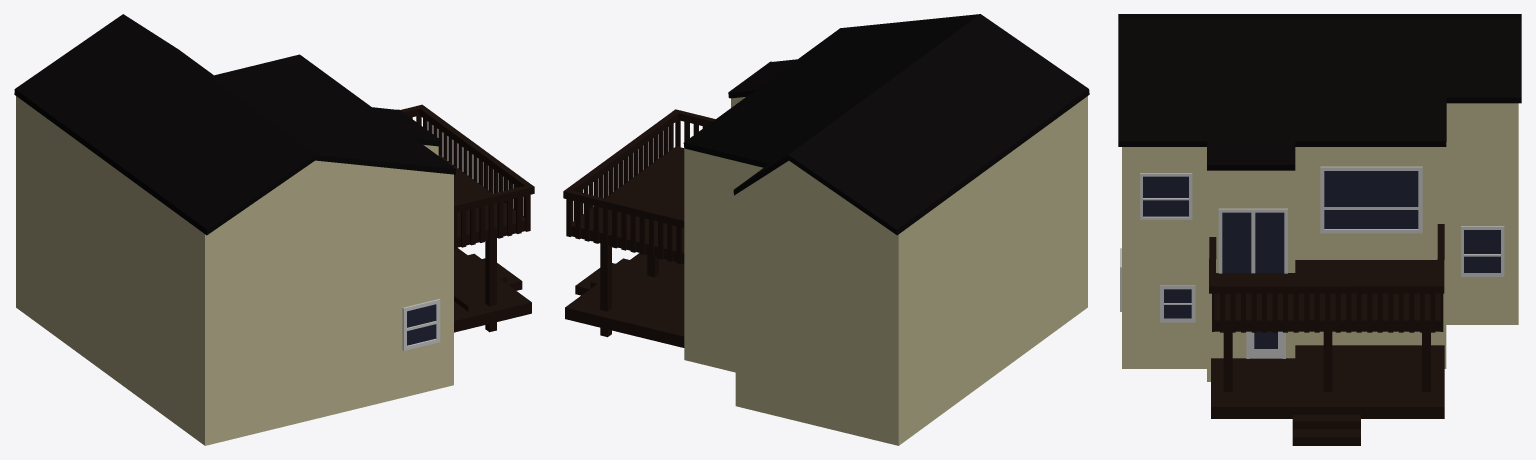
File: house.obj
The picture shows the model from 3 angles, left to right: view 1: azimuth 30°, elevation 25°; view 2: azimuth 150°, elevation 25°; view 3: azimuth 270°, elevation 25°; orthographic projection. The views are drawn at different scales.
Parts seen in each view (by area): view 1: Cube, Cube.001, Cube.002; view 2: Cube, Cube.001, Cube.002; view 3: Cube, Cube.002, Cube.001, Cube.003.
Boxes of the visible parts, <box> form: Cube: <box>14,14,456,445</box>; Cube.001: <box>400,104,534,249</box>; Cube.002: <box>454,238,531,332</box>; Cube: <box>683,14,1089,445</box>; Cube.001: <box>563,109,715,263</box>; Cube.002: <box>565,243,684,347</box>; Cube: <box>1118,14,1521,381</box>; Cube.002: <box>1211,331,1444,418</box>; Cube.001: <box>1209,224,1444,332</box>; Cube.003: <box>1292,414,1360,445</box>.
Bounding box in the file's own units: 54.55 × 35.17 × 45.63.
